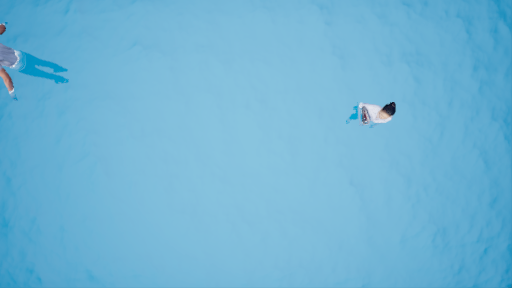person: (349, 103, 398, 129)
